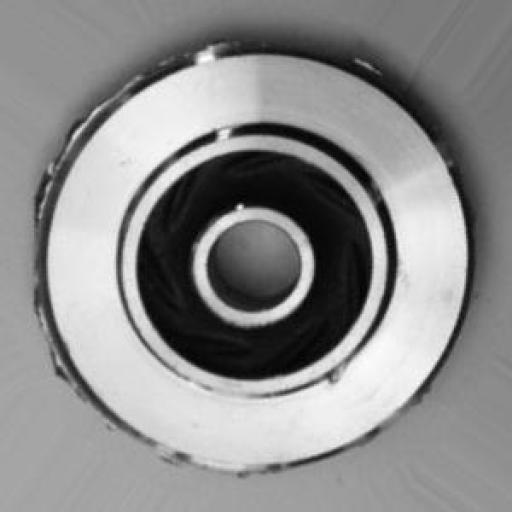defect: (31, 27, 488, 484)
